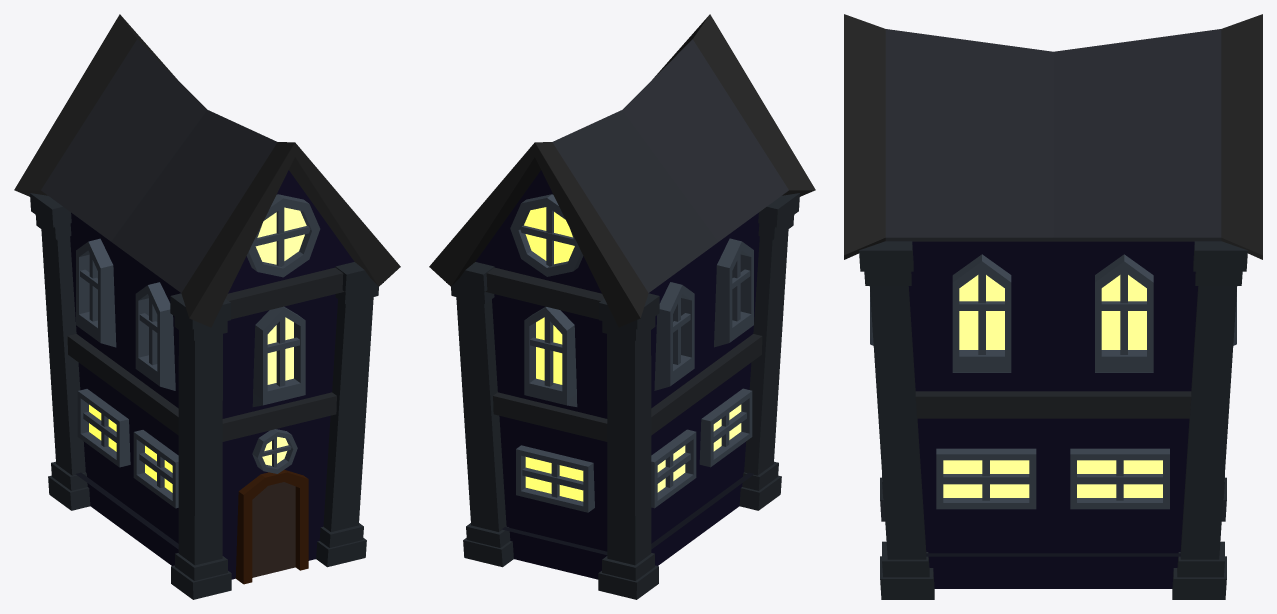
The model's file is CasaGoticaVariante1_Casa01.fbx.
3 renders of one model, left to right at view 1: azimuth 30°, elevation 25°; view 2: azimuth 150°, elevation 25°; view 3: azimuth 270°, elevation 25°, orthographic. The views are drawn at different scales.
Parts seen in each view (by area): view 1: Teto01, Pilar01, Parede01, JanelaMolde01, Divisao01, Porta01, PortaContorno01, JanelaFundo01, Base01; view 2: Teto01, Pilar01, Parede01, JanelaMolde01, Divisao01, JanelaFundo01, Base01; view 3: Teto01, Parede01, Pilar01, JanelaMolde01, JanelaFundo01, Divisao01, Base01.
Part boxes in pixels (x1,y1,x2,y2): Teto01: (14, 14, 400, 327); Pilar01: (30, 193, 383, 599); Parede01: (70, 170, 354, 579); JanelaMolde01: (76, 194, 320, 508); Divisao01: (67, 267, 344, 441); Porta01: (252, 482, 295, 577); PortaContorno01: (235, 469, 308, 584); JanelaFundo01: (89, 207, 306, 492); Base01: (75, 472, 178, 549); Teto01: (429, 14, 815, 327); Pilar01: (446, 193, 799, 599); Parede01: (475, 170, 759, 579); JanelaMolde01: (510, 194, 753, 512); Divisao01: (485, 267, 762, 441); JanelaFundo01: (524, 207, 741, 501); Base01: (501, 472, 754, 554); Teto01: (844, 14, 1262, 259); Parede01: (908, 241, 1198, 588); Pilar01: (859, 241, 1247, 599); JanelaMolde01: (870, 254, 1236, 509); JanelaFundo01: (943, 275, 1162, 497); Divisao01: (915, 391, 1191, 418); Base01: (926, 553, 1180, 556).
Bounding box in the file's own units: 1099 × 2224 × 1576.
